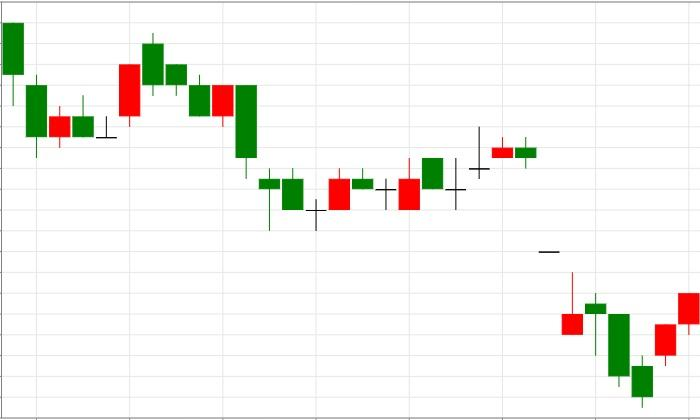bearish_engulfing_fall: (398, 126, 537, 211)
morning_star_rise: (141, 31, 351, 230)
